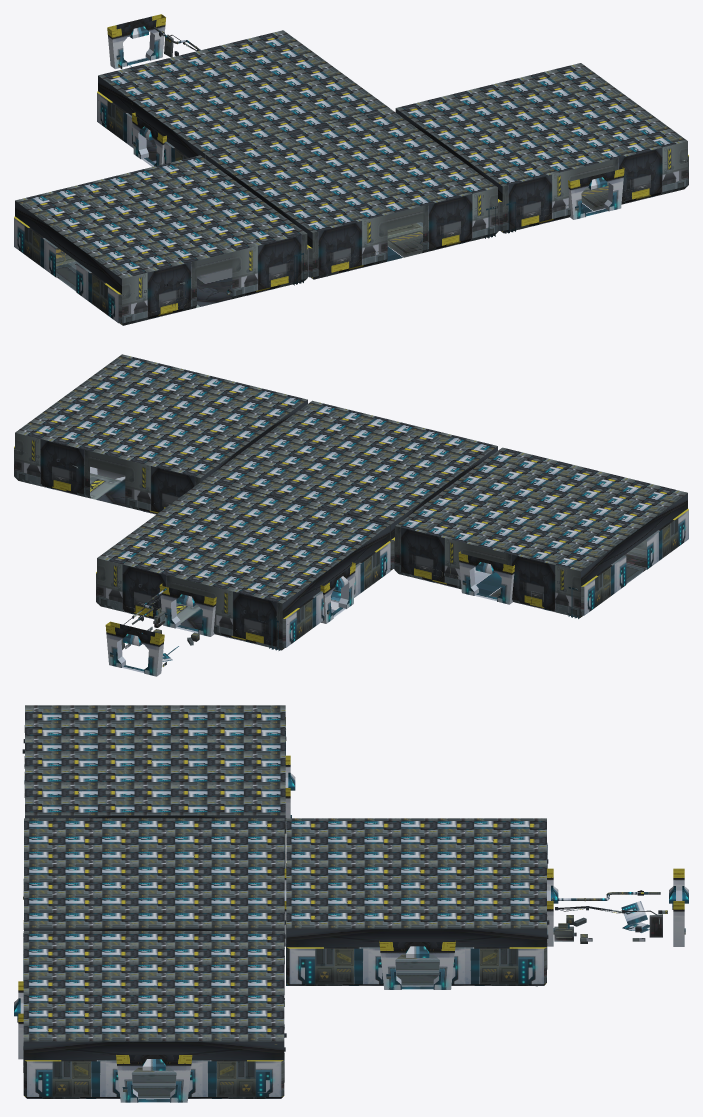
File: Combined_Mesh_root_scene__10_7ad9d44b__ZombiesII_laboratory_08_d_36b73b52_c1f257_part002.obj
3 renders of one model, top to bottom at view 1: azimuth 30°, elevation 25°; view 2: azimuth 150°, elevation 25°; view 3: azimuth 270°, elevation 25°, orthographic. The views are drawn at different scales.
Bounding box in the file's own units: 124 × 10.21 × 104.
261 materials, 261 textured.
